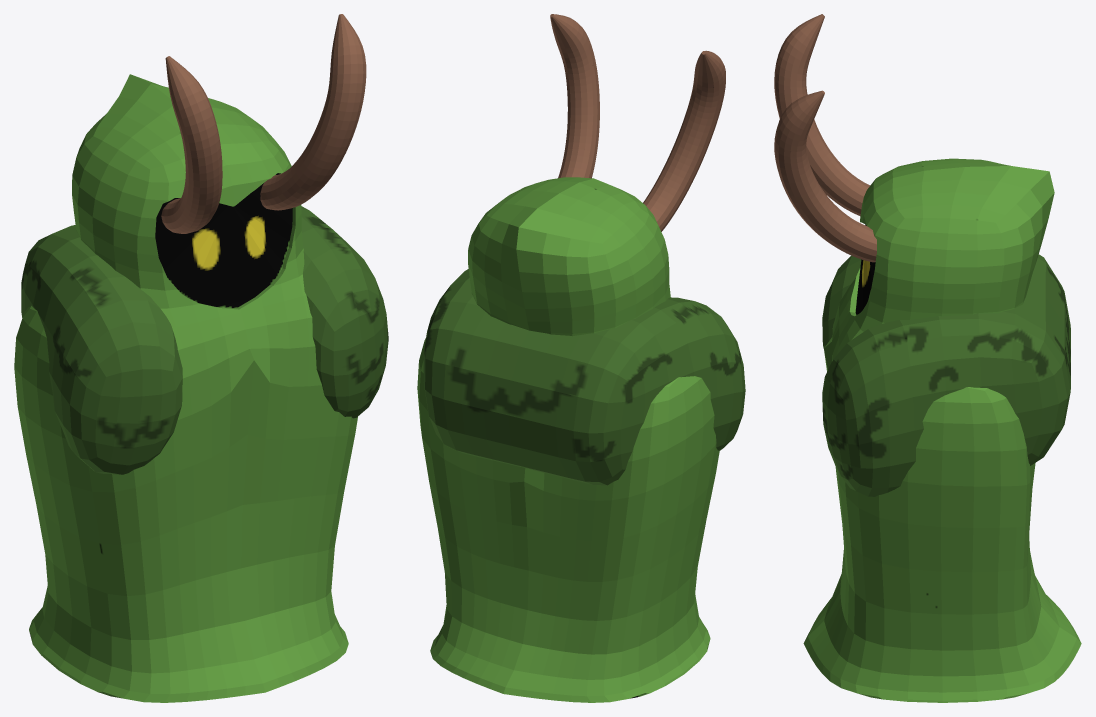
File: the-druid.fbx
3 views of the same model, side by side, from view 1: azimuth 30°, elevation 25°; view 2: azimuth 150°, elevation 25°; view 3: azimuth 270°, elevation 25° (orthographic). The views are drawn at different scales.
Visible parts, largest first — view 1: Body, Bush, Antlers; view 2: Body, Bush, Antlers; view 3: Body, Bush, Antlers.
Boxes of the visible parts, bbox=[...] form: Body: bbox=[14, 74, 357, 702]; Bush: bbox=[21, 206, 388, 474]; Antlers: bbox=[161, 14, 366, 233]; Body: bbox=[417, 177, 719, 702]; Bush: bbox=[423, 269, 745, 485]; Antlers: bbox=[550, 14, 725, 231]; Body: bbox=[803, 158, 1081, 702]; Bush: bbox=[822, 254, 1070, 496]; Antlers: bbox=[774, 14, 876, 262].
Bounding box in the file's own units: 0.6405 × 1.27 × 0.5941.
1 material, 1 textured.
